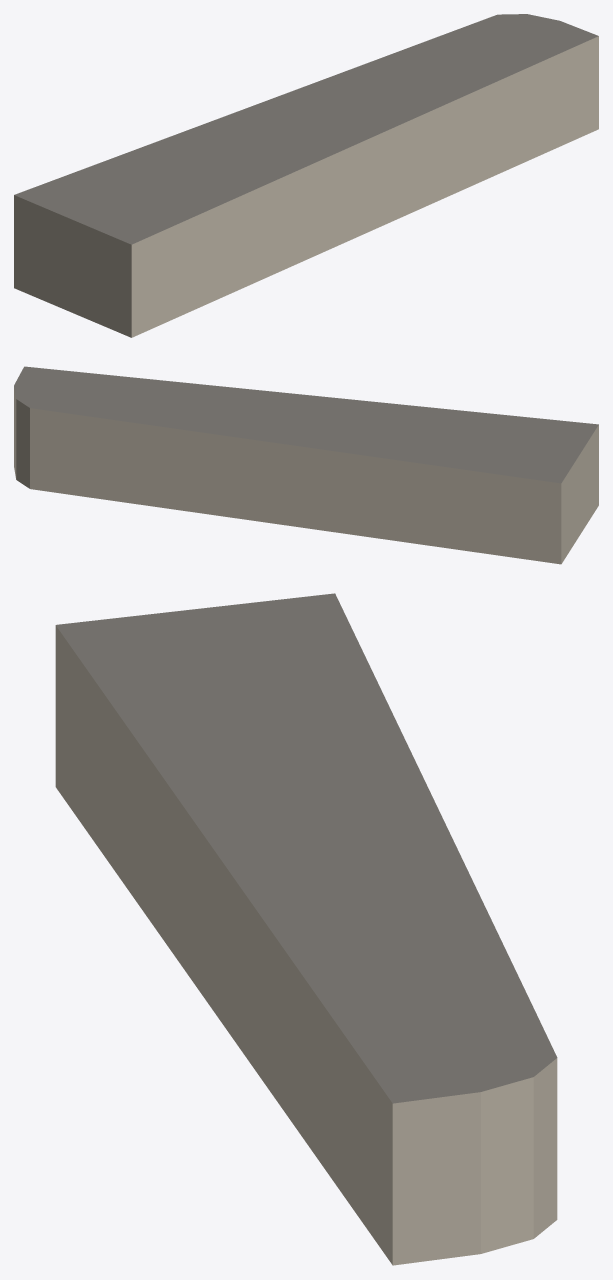
3 renders of one model, top to bottom at view 1: azimuth 30°, elevation 25°; view 2: azimuth 150°, elevation 25°; view 3: azimuth 270°, elevation 25°, orthographic. The views are drawn at different scales.
Parts seen in each view (by area): view 1: HP-w859488668; view 2: HP-w859488668; view 3: HP-w859488668.
Boxes of the visible parts, bbox=[...] form: HP-w859488668: bbox=[14, 14, 598, 337]; HP-w859488668: bbox=[14, 366, 598, 564]; HP-w859488668: bbox=[55, 593, 557, 1265].
Bounding box in the file's own units: 81.05 × 12 × 33.69.
